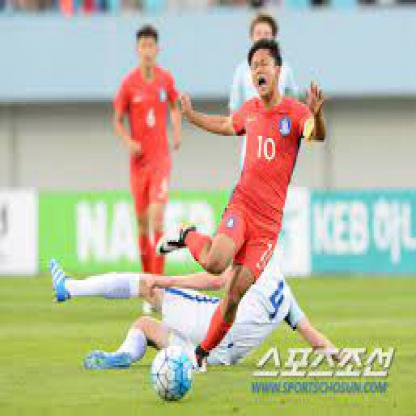Fall_Down: (154, 41, 330, 380)
